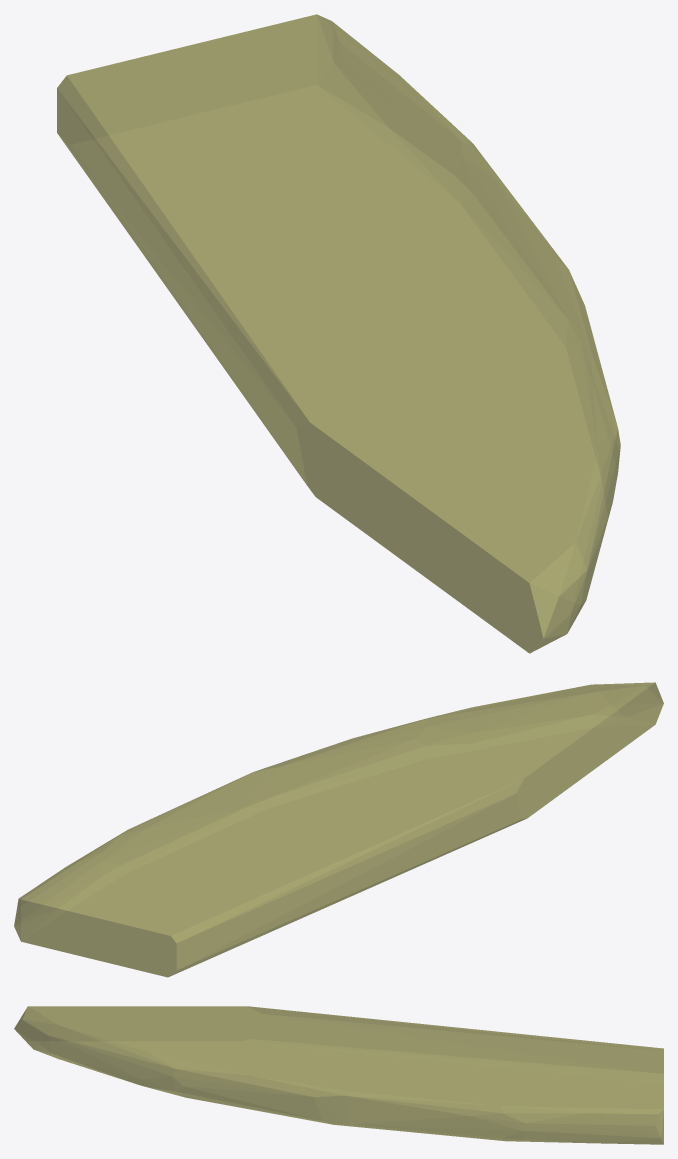
3 renders of one model, top to bottom at view 1: azimuth 30°, elevation 25°; view 2: azimuth 150°, elevation 25°; view 3: azimuth 270°, elevation 25°, orthographic. The views are drawn at different scales.
Visible parts, largest first — view 1: Shape_IndexedFaceSet.006_Shape_IndexedFaceSet.17158; view 2: Shape_IndexedFaceSet.006_Shape_IndexedFaceSet.17158; view 3: Shape_IndexedFaceSet.006_Shape_IndexedFaceSet.17158.
Part boxes in pixels (x1,y1,x2,y2): Shape_IndexedFaceSet.006_Shape_IndexedFaceSet.17158: (57,14,620,653); Shape_IndexedFaceSet.006_Shape_IndexedFaceSet.17158: (14,682,663,977); Shape_IndexedFaceSet.006_Shape_IndexedFaceSet.17158: (14,1006,663,1144).
Bounding box in the file's own units: 0.154 × 0.0237 × 0.396.
